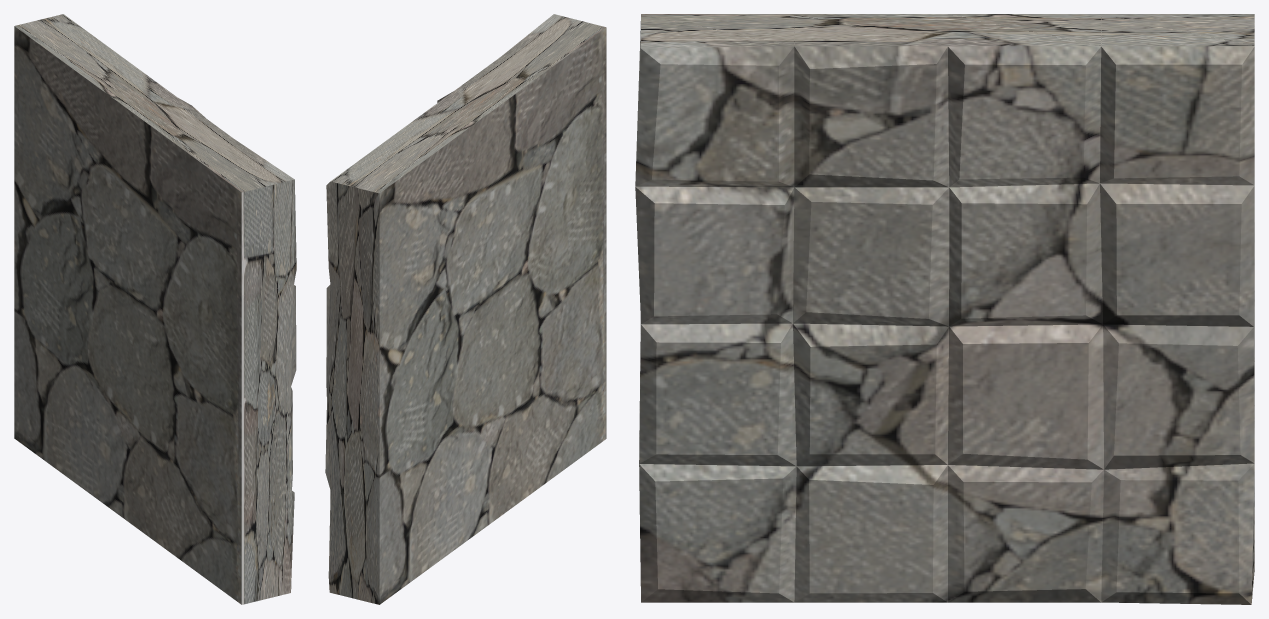
Rendered from stone_wall.fbx.
3 views of the same model, side by side, from view 1: azimuth 30°, elevation 25°; view 2: azimuth 150°, elevation 25°; view 3: azimuth 270°, elevation 25° (orthographic). The views are drawn at different scales.
Parts seen in each view (by area): view 1: Cube; view 2: Cube; view 3: Cube.
Part boxes in pixels (x1,y1,x2,y2): Cube: (14,14,296,604); Cube: (325,14,606,604); Cube: (635,14,1254,604).
Size of the model in its own units: 128 by 802 by 807.
